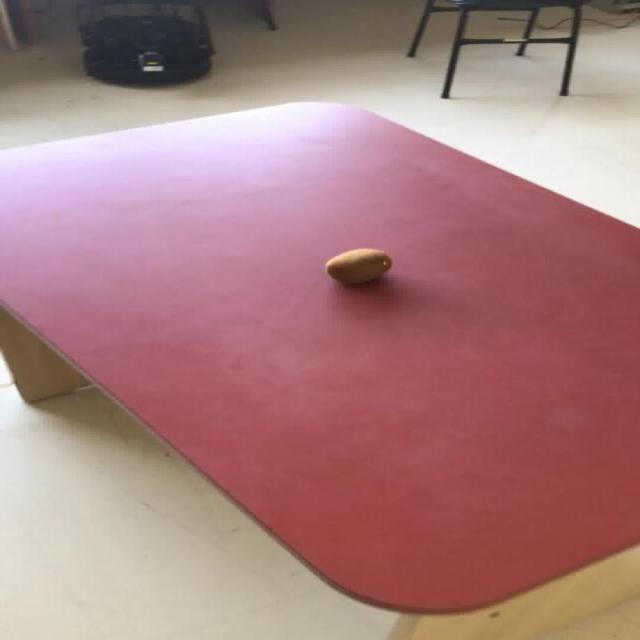Kiwi: (324, 247, 392, 283)
